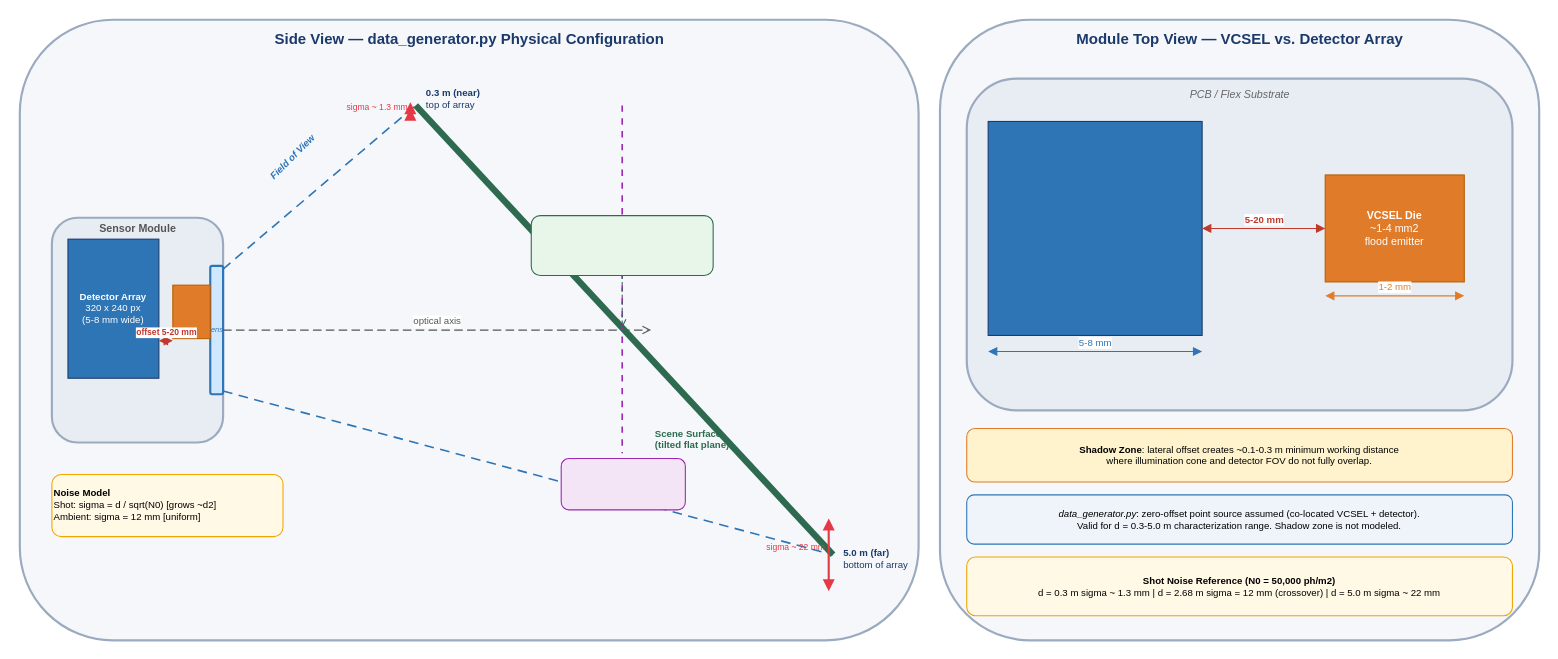
Image size: 1558x659. Some labels were removed from this diagram. The centre of each missing label's shape, as x and y in pixels:
"d = 2.68 m sigma_shot = sigma_ambient (crossover)" goes at (622,483).
"depth: top to bottom 19.6 mm / row (dominant) 0.06 mm / col (minor)" goes at (621,245).
"Detector Array 320 x 240 pixels Area: ~25-60 mm2 (5-8 mm x 5-8 mm)" goes at (1094,227).
"VCSEL ~1-4 mm2" goes at (191,311).
